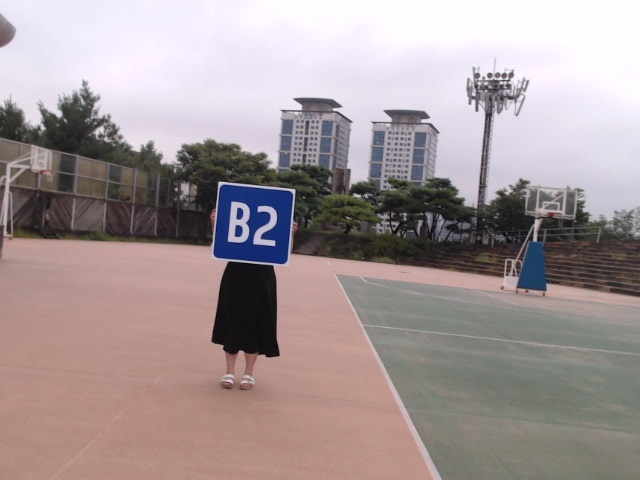delivery_b2: (212, 182, 295, 265)
